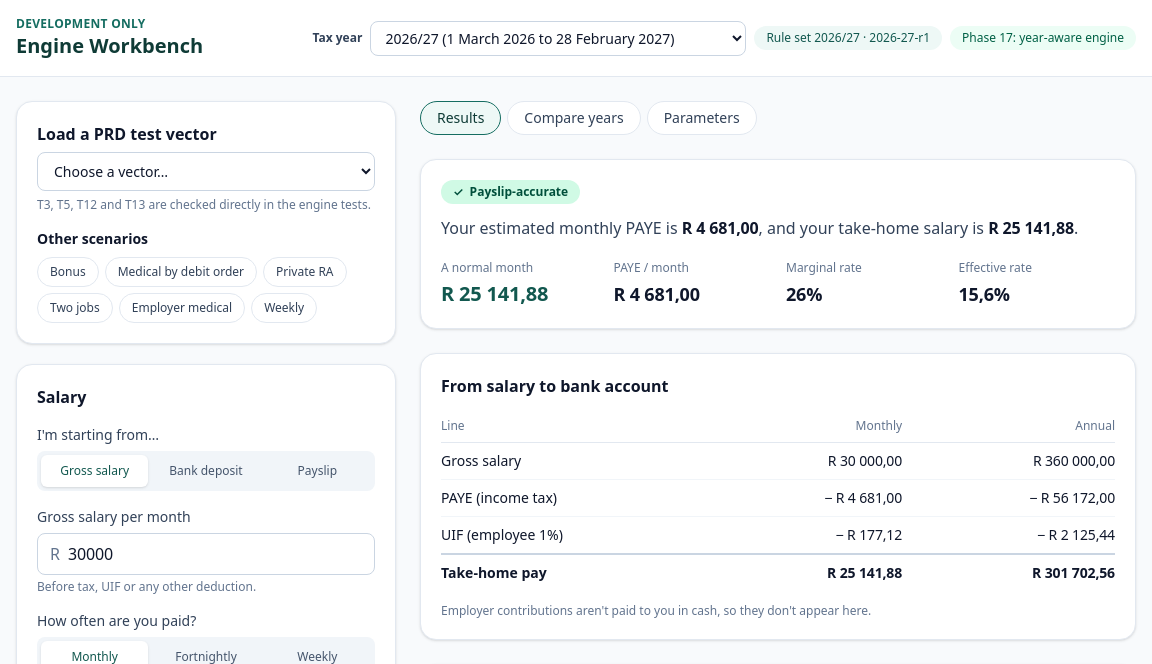
Workbench: year dropdown › switches to 2025/26: draft banner, its own labels and its own numbers
Select "2025/26 (1 March 2025 to 28 February 2026) · Draft" in the dropdown labelled "Tax year" at (558, 38), box top-left (370, 20), bottom-right (746, 56)
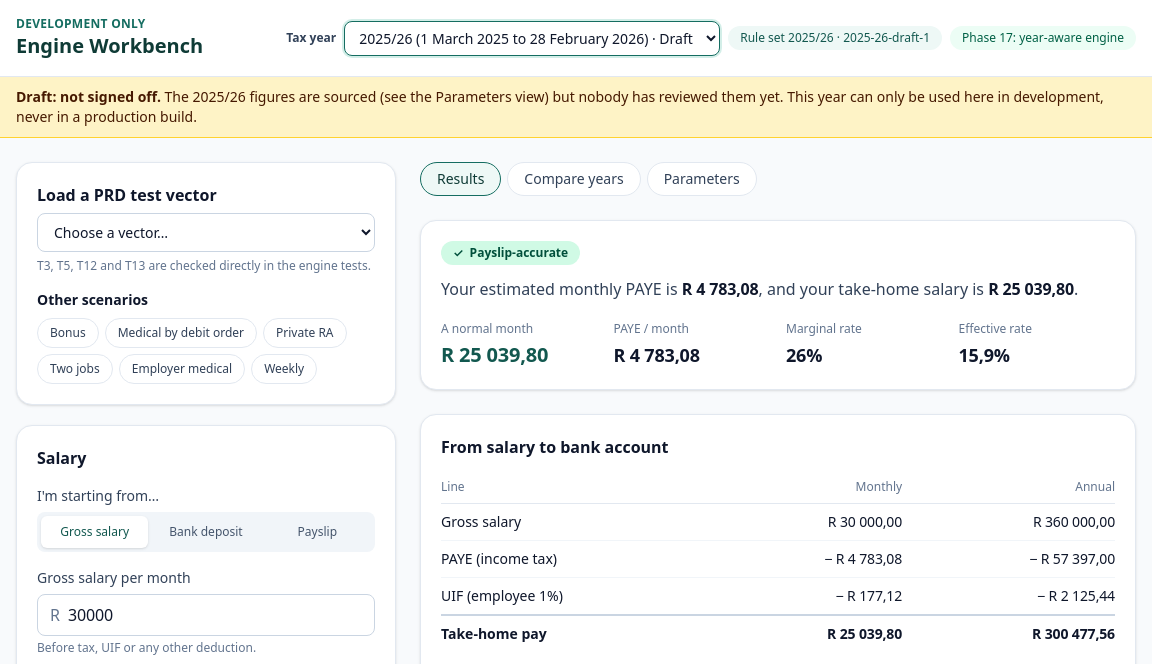
expect the message shows "Draft: not signed off": met, box top-left (16, 87), bottom-right (161, 106)
Select "2026/27 (1 March 2026 to 28 February 2027)" in the dropdown labelled "Tax year" at (532, 38), box top-left (344, 20), bottom-right (720, 56)
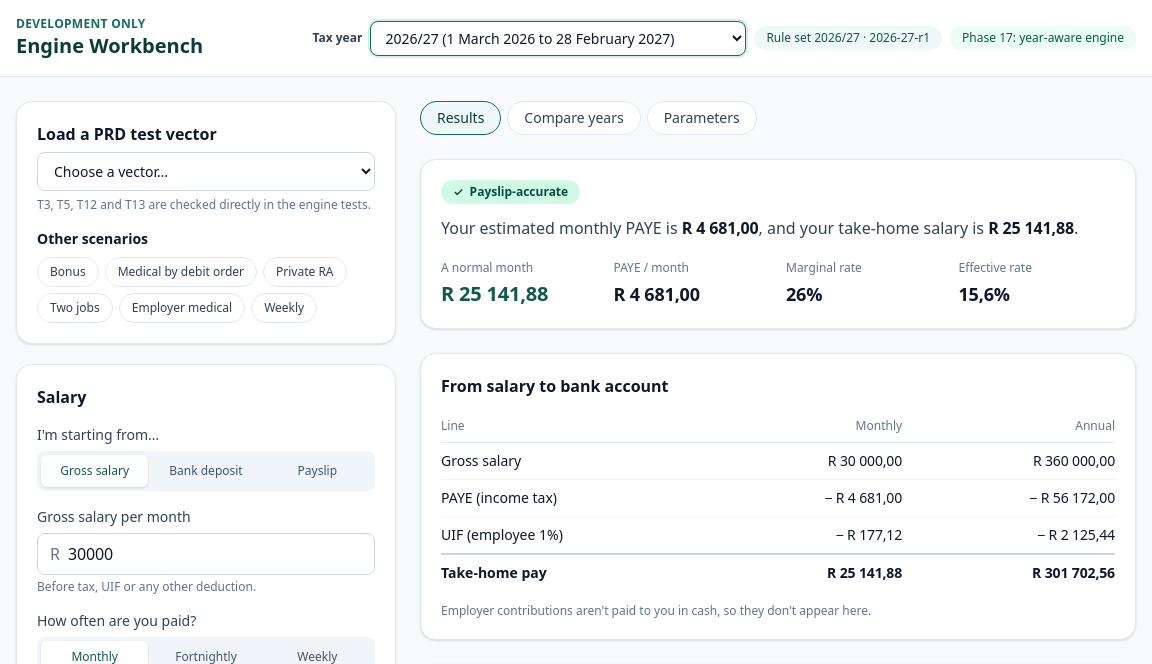
expect the text "Draft: not signed off" is gone: met
